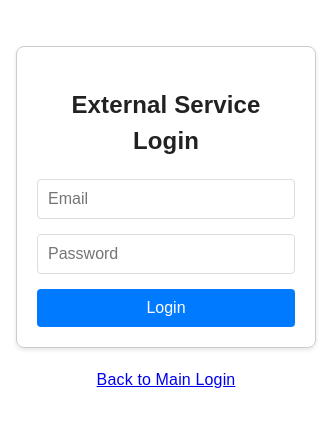
Test: SimpleExternalLoginPage › shows a success message on successful login
The width and height of the screenshot is (333, 435).
Type "user@example.com" into the field with placeholder "Email".
click(166, 199); type("user@example.com")  # box [37,179,295,219]
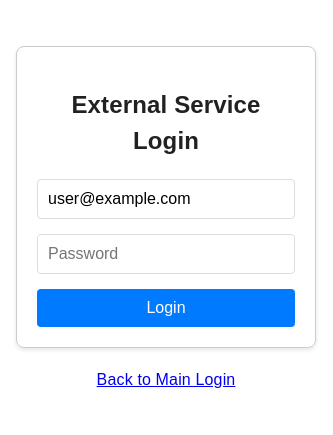
Type "password" into the password field with placeholder "Password".
click(166, 254); type("password")  # box [37,234,295,274]
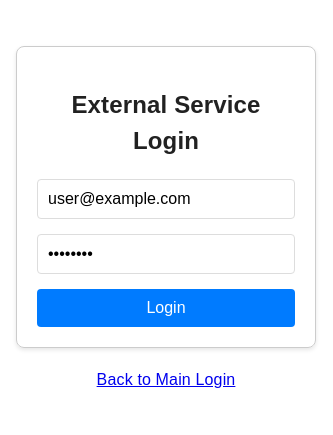
Click the button "Login".
click(166, 308)  # box [37,289,295,327]
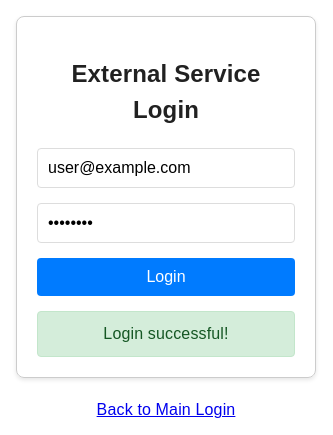
Expected: the text "Login successful!" is shown, [37,312,295,358]
